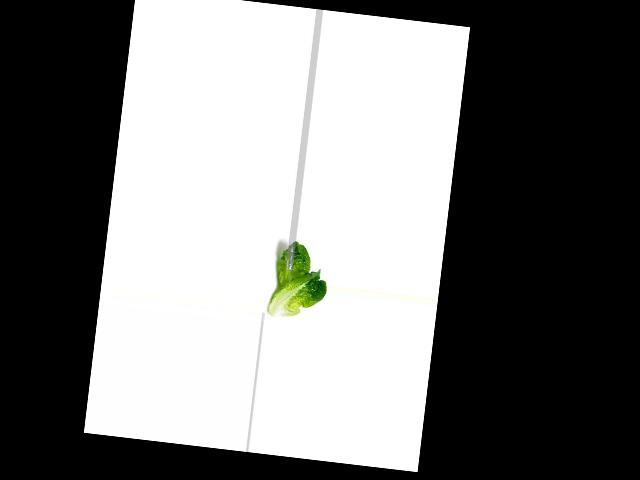lettuce: (269, 237, 332, 324)
